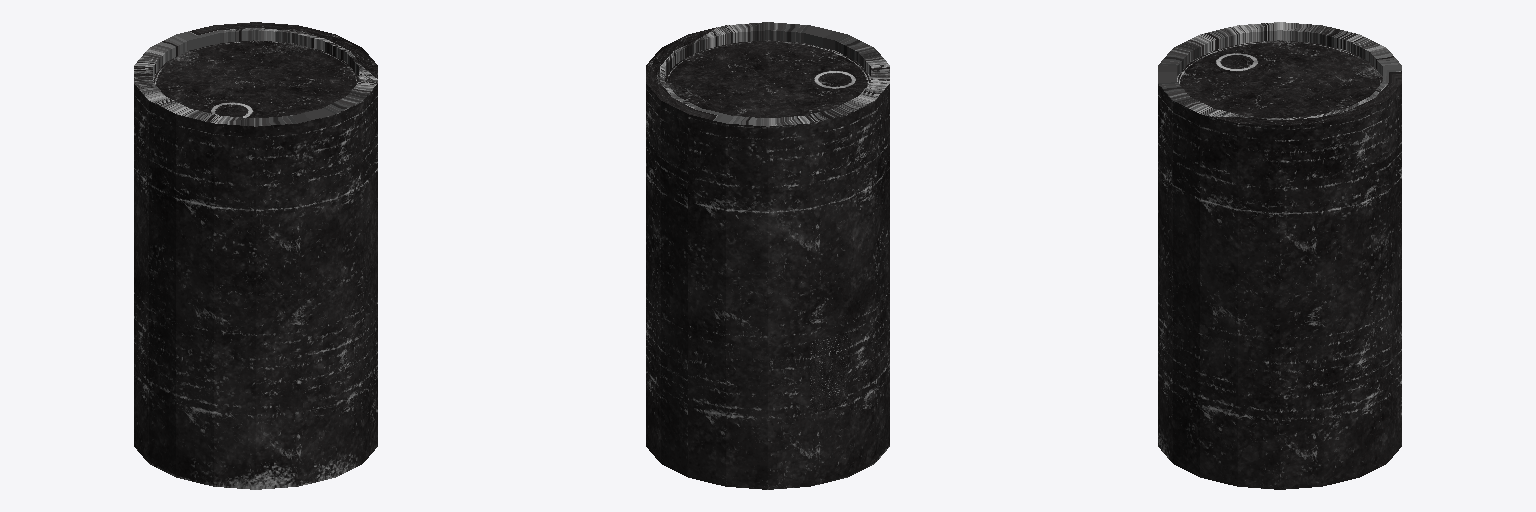
3 views of the same model, side by side, from view 1: azimuth 30°, elevation 25°; view 2: azimuth 150°, elevation 25°; view 3: azimuth 270°, elevation 25° (orthographic).
Parts seen in each view (by area): view 1: Cylinder00; view 2: Cylinder00; view 3: Cylinder00.
Part boxes in pixels (left/top/right/bottom): Cylinder00: left=134, top=22, right=377, bottom=489; Cylinder00: left=646, top=22, right=889, bottom=489; Cylinder00: left=1158, top=22, right=1401, bottom=489.
Size of the model in its own units: 29.16 by 47.24 by 28.72.
1 materials, 1 textured.